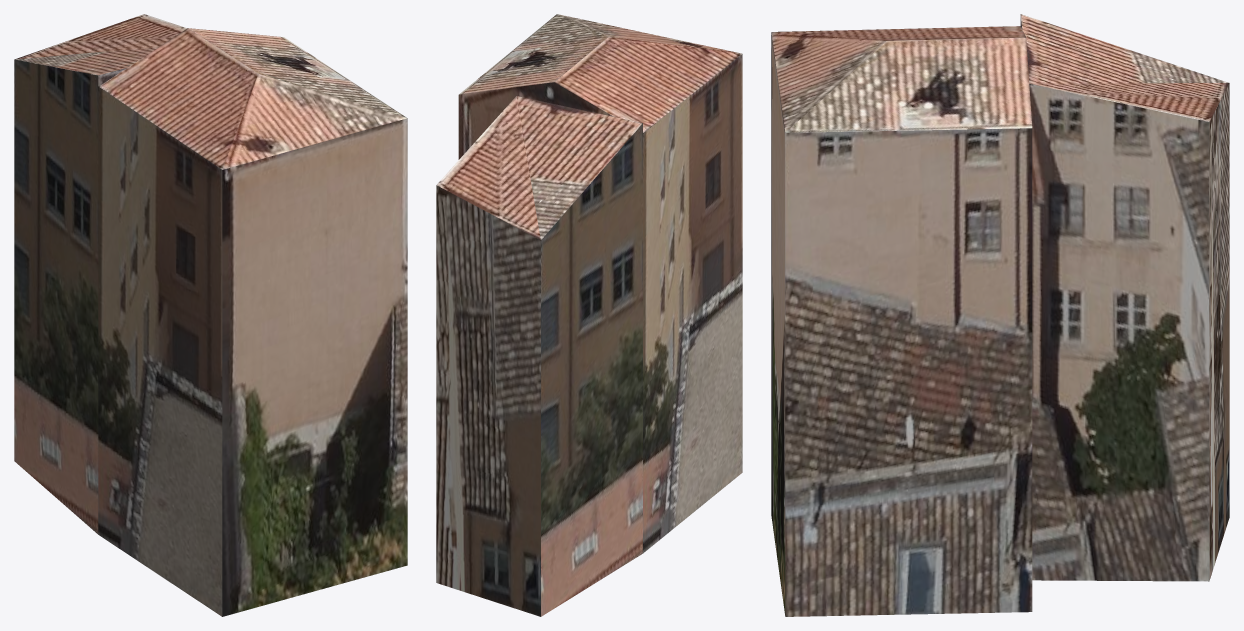
The picture shows the model from 3 angles, left to right: view 1: azimuth 30°, elevation 25°; view 2: azimuth 150°, elevation 25°; view 3: azimuth 270°, elevation 25°; orthographic projection. The views are drawn at different scales.
Parts seen in each view (by area): view 1: Z_UP; view 2: Z_UP; view 3: Z_UP.
Part boxes in pixels (x1,y1,x2,y2): Z_UP: (14,14,407,616); Z_UP: (436,14,742,616); Z_UP: (771,14,1229,616).
Bounding box in the file's own units: 7.44 × 17.11 × 13.61.
2 materials, 1 textured.
